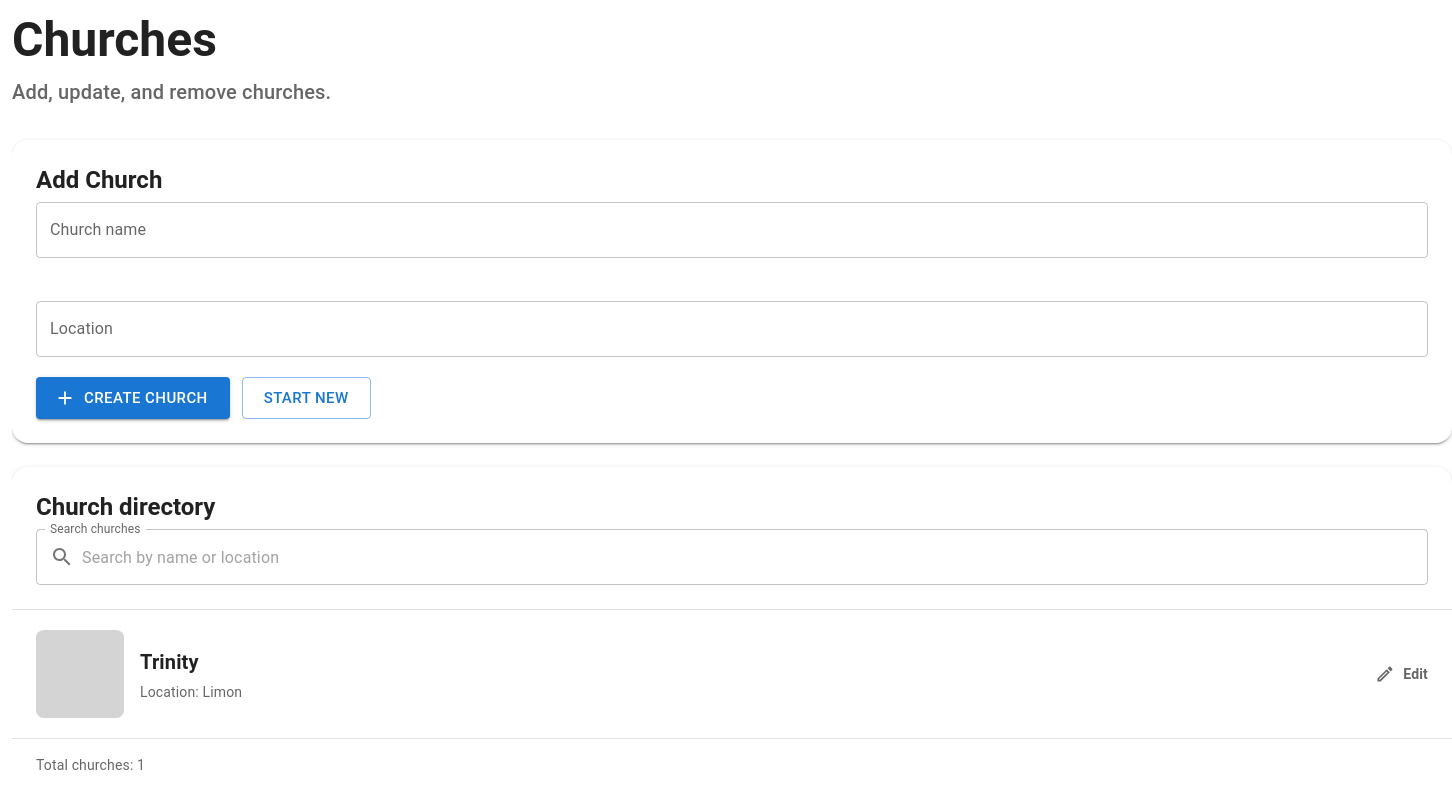
Test: ChurchManagementPage › lets users dismiss feedback with the close button
Click the button "Trinity Location: Limon Edit" at (732, 674), box [12,610,1451,738]
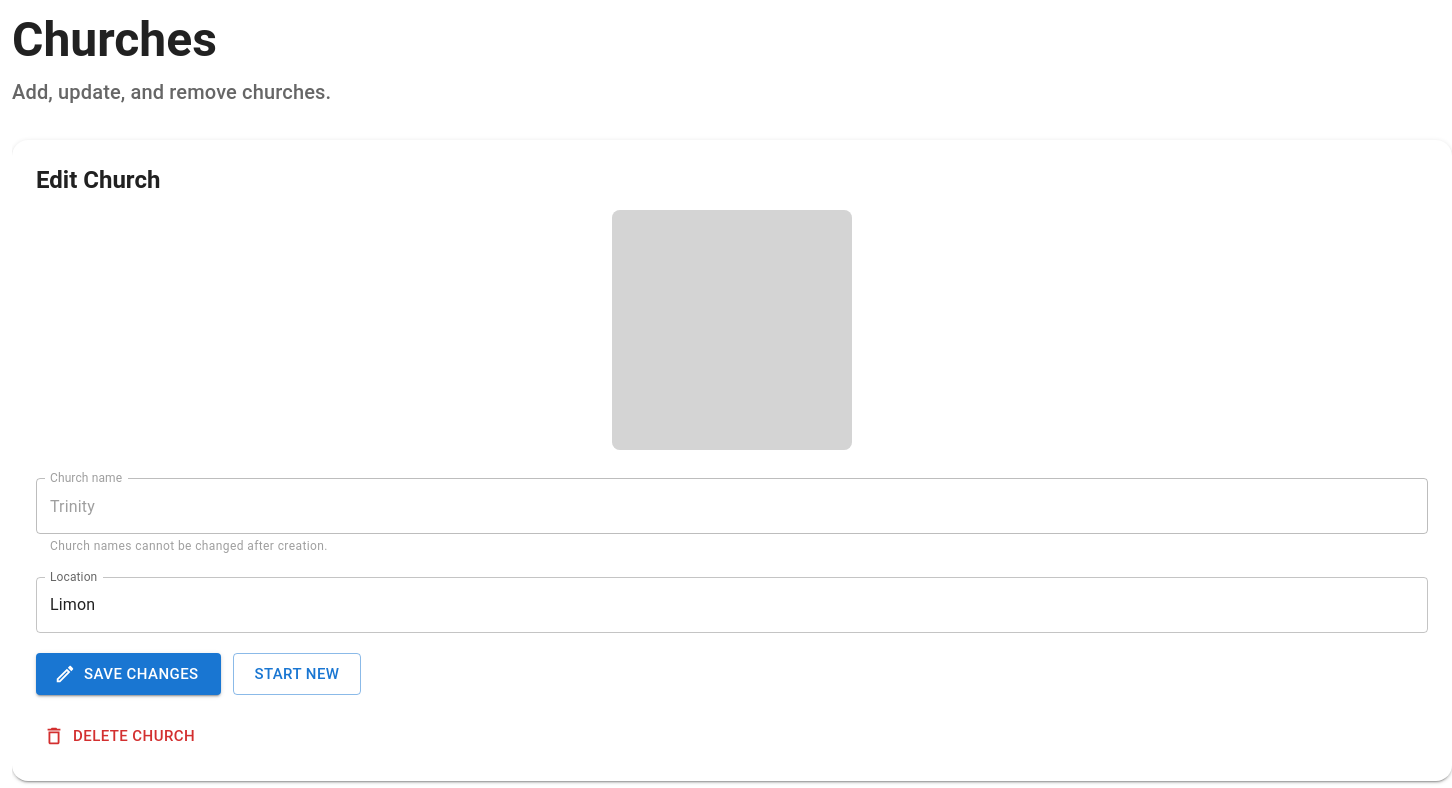
Replace the text in the field labelled "Location" with "Limon Centro" at (732, 605), box [36,577,1428,633]
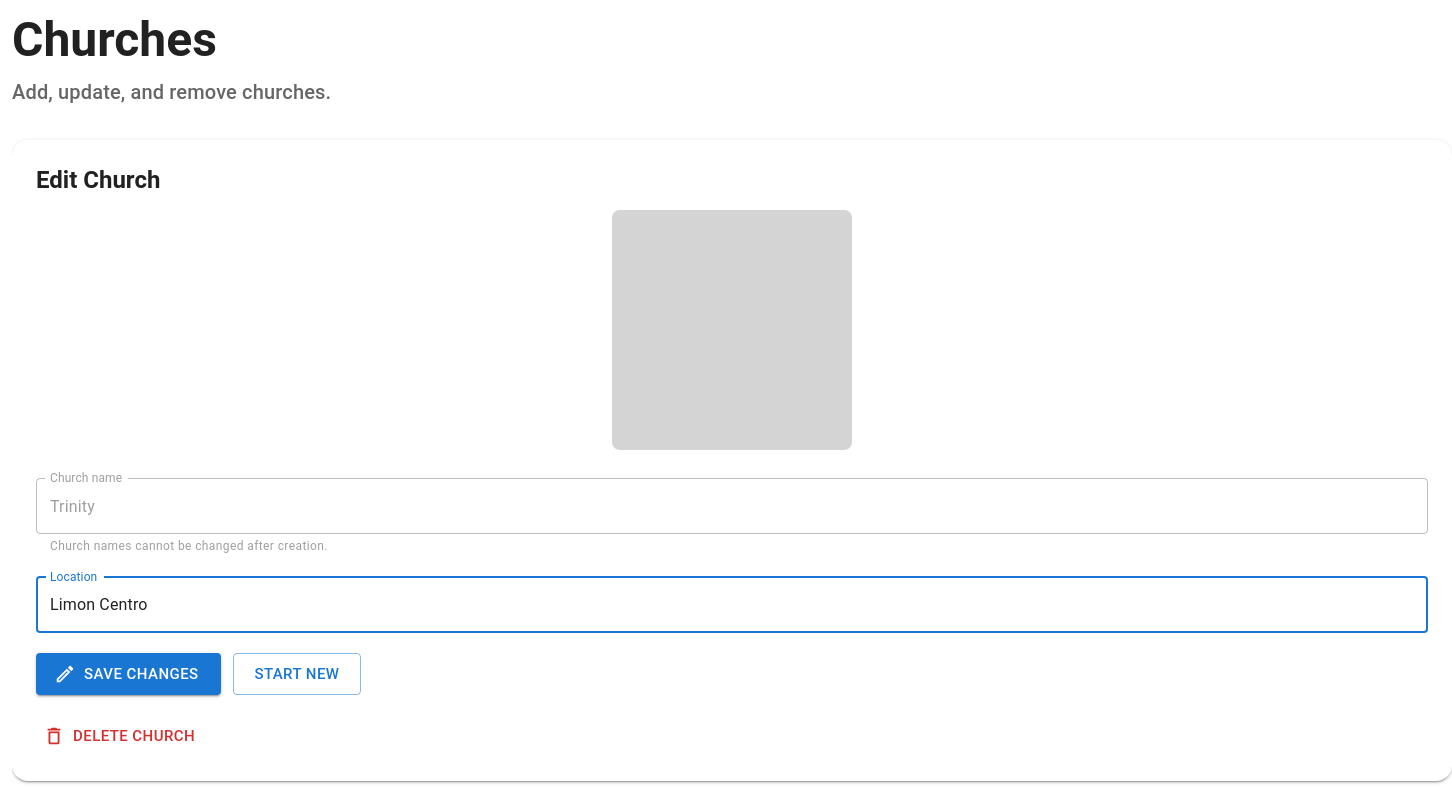
Click the button "Save Changes" at (128, 674), box [36,653,220,695]
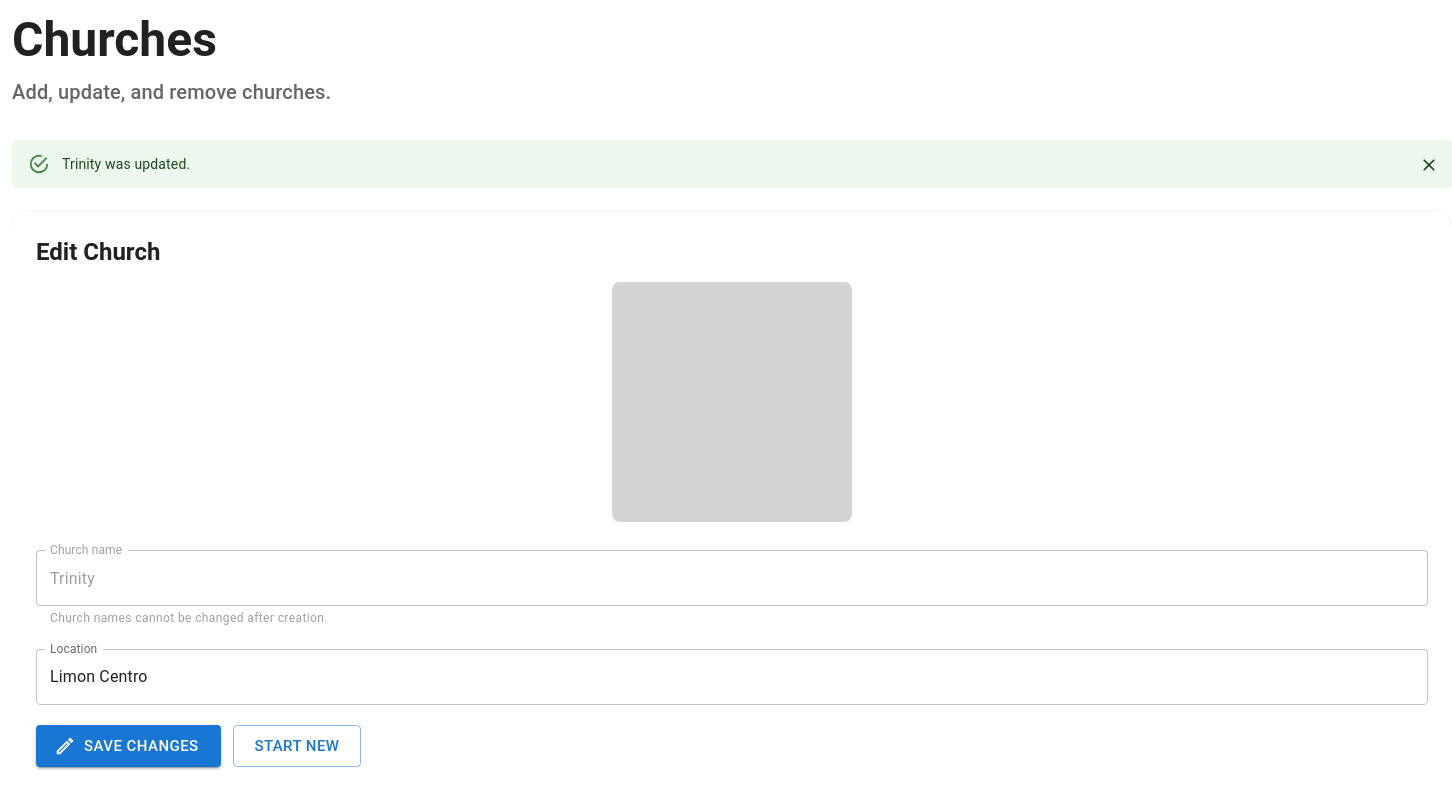
Result: the text "Trinity was updated." is shown at [62,156,190,172]
Click the button named "close" at (1429, 165), box [1414,150,1444,180]
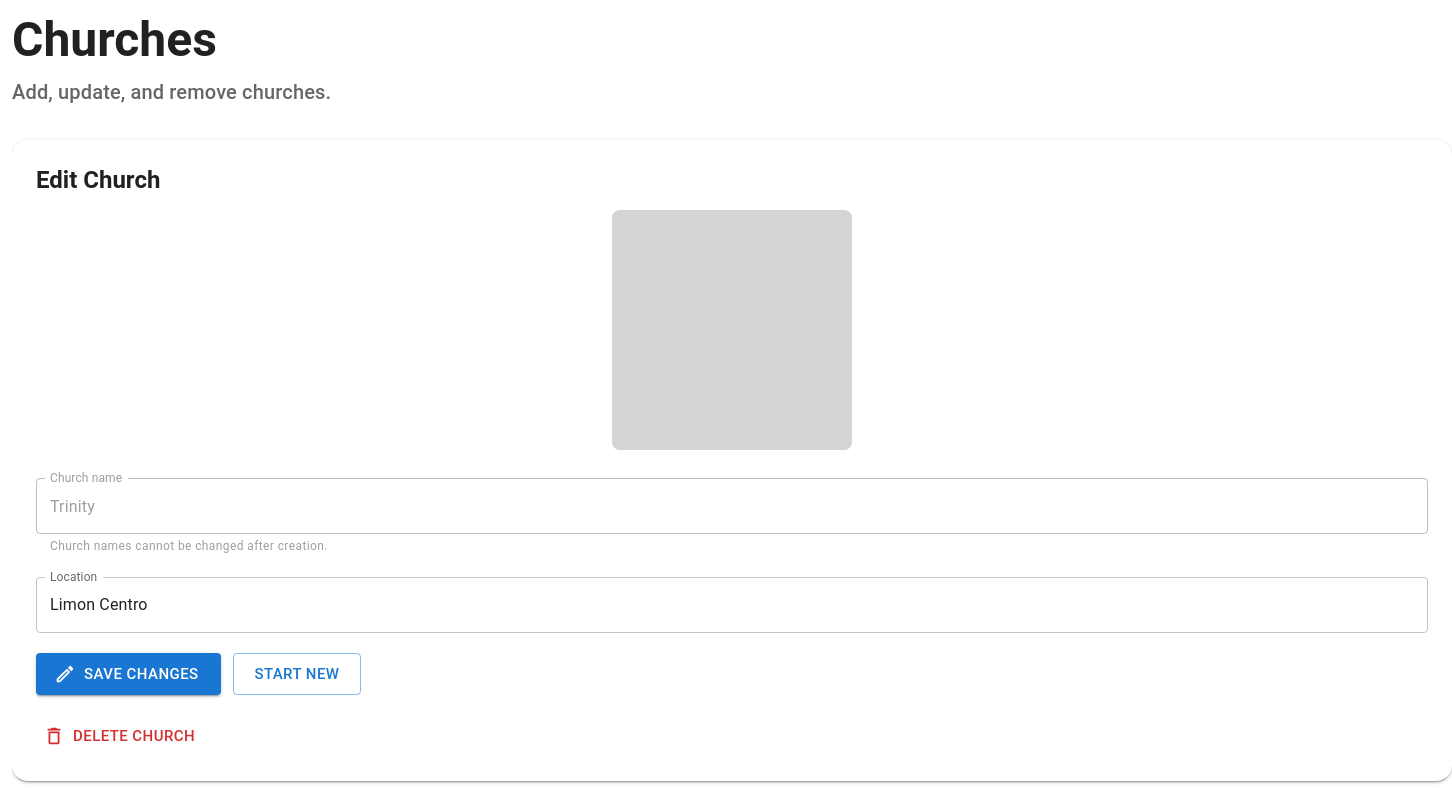
Result: the text "Trinity was updated." is gone
